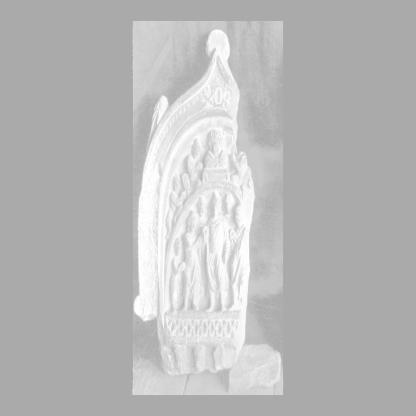buddha-standing: (206, 191, 230, 312)
